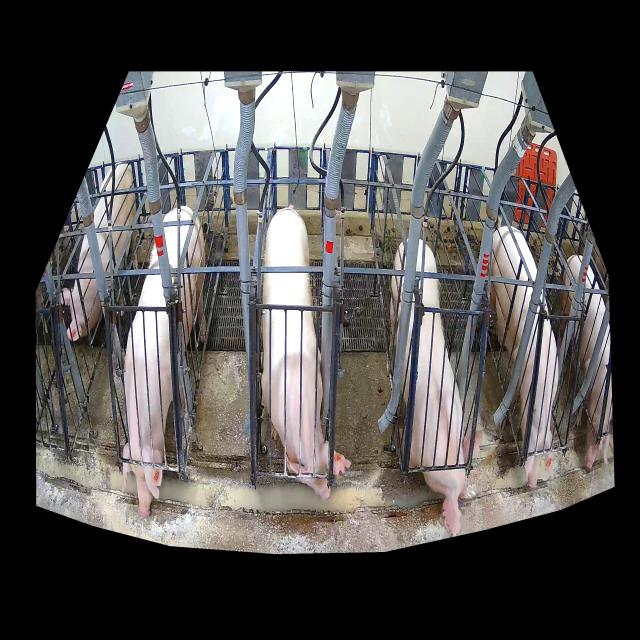pig: (387, 238, 483, 535), (122, 207, 208, 516), (262, 209, 352, 500), (490, 226, 558, 488), (60, 163, 138, 340), (558, 256, 612, 472)
